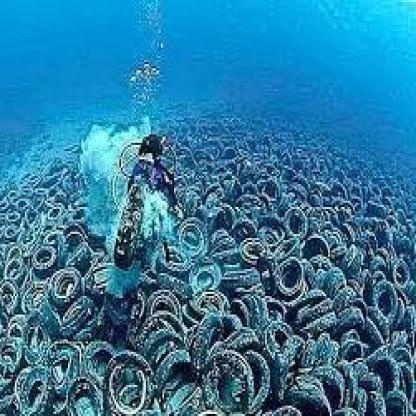tire: (98, 339, 154, 416), (204, 346, 267, 407), (267, 251, 313, 300), (370, 271, 406, 329), (148, 290, 190, 339), (174, 219, 207, 269), (58, 269, 90, 319), (33, 248, 63, 280)
